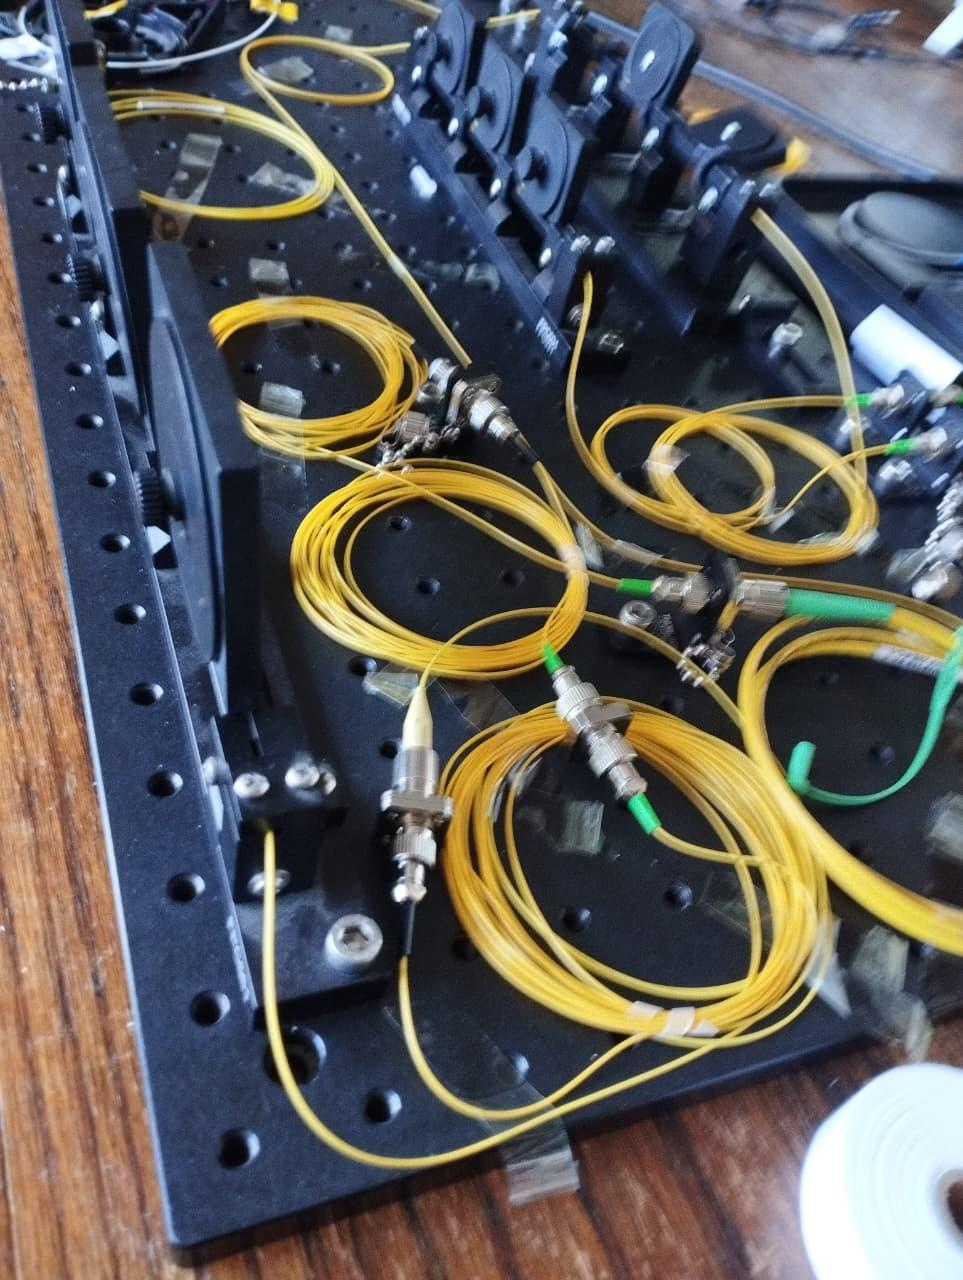fiber_cable: (435, 672, 848, 1085), (702, 563, 963, 973), (278, 473, 655, 692), (193, 250, 485, 497), (583, 377, 892, 587)
